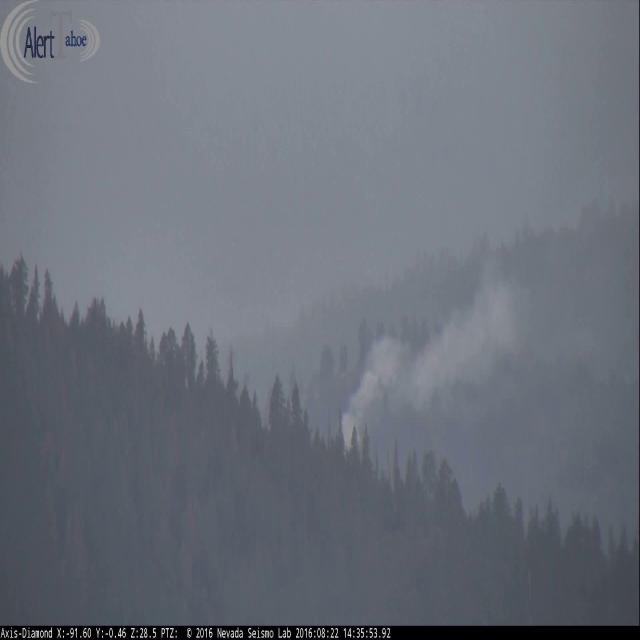smoke: (341, 232, 640, 458)
